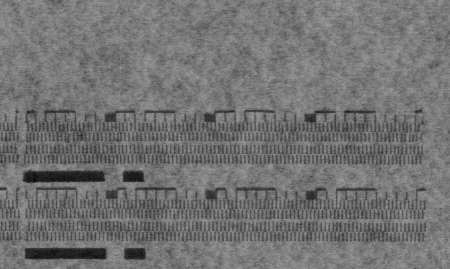Oblique printing: (400, 119, 428, 144)
